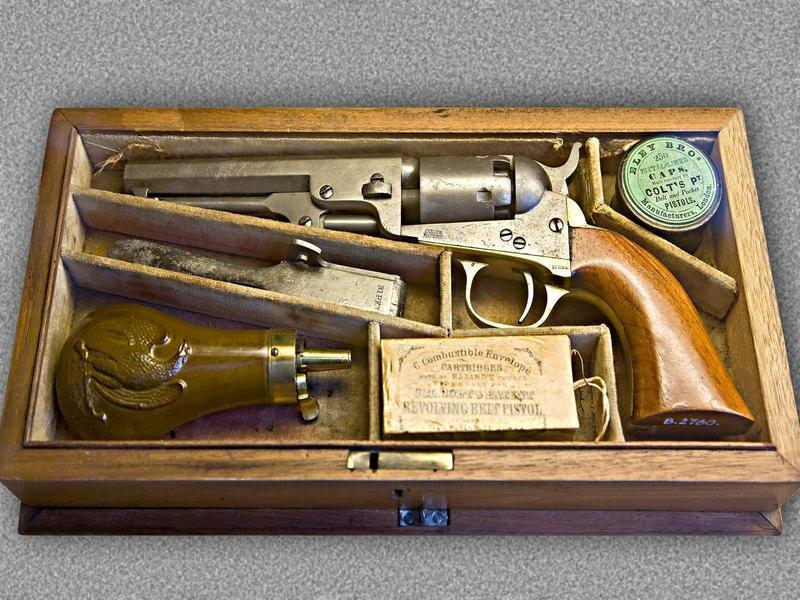GUN: (102, 140, 755, 451)
